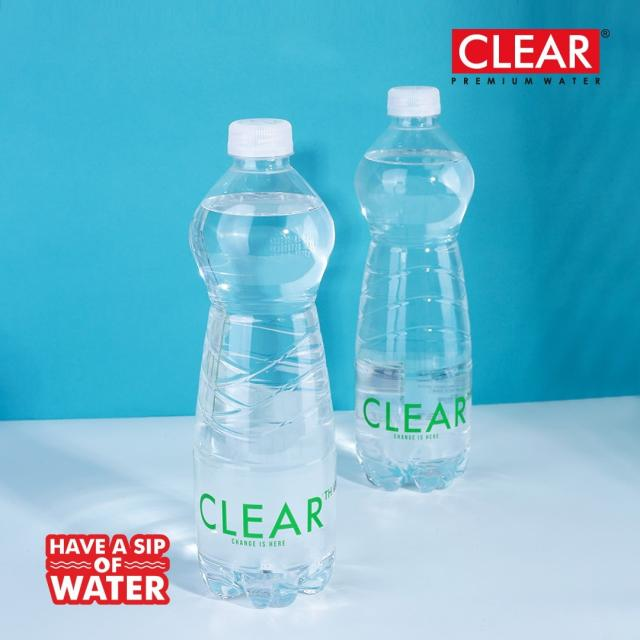bottle: (180, 92, 353, 608), (348, 64, 516, 517)
